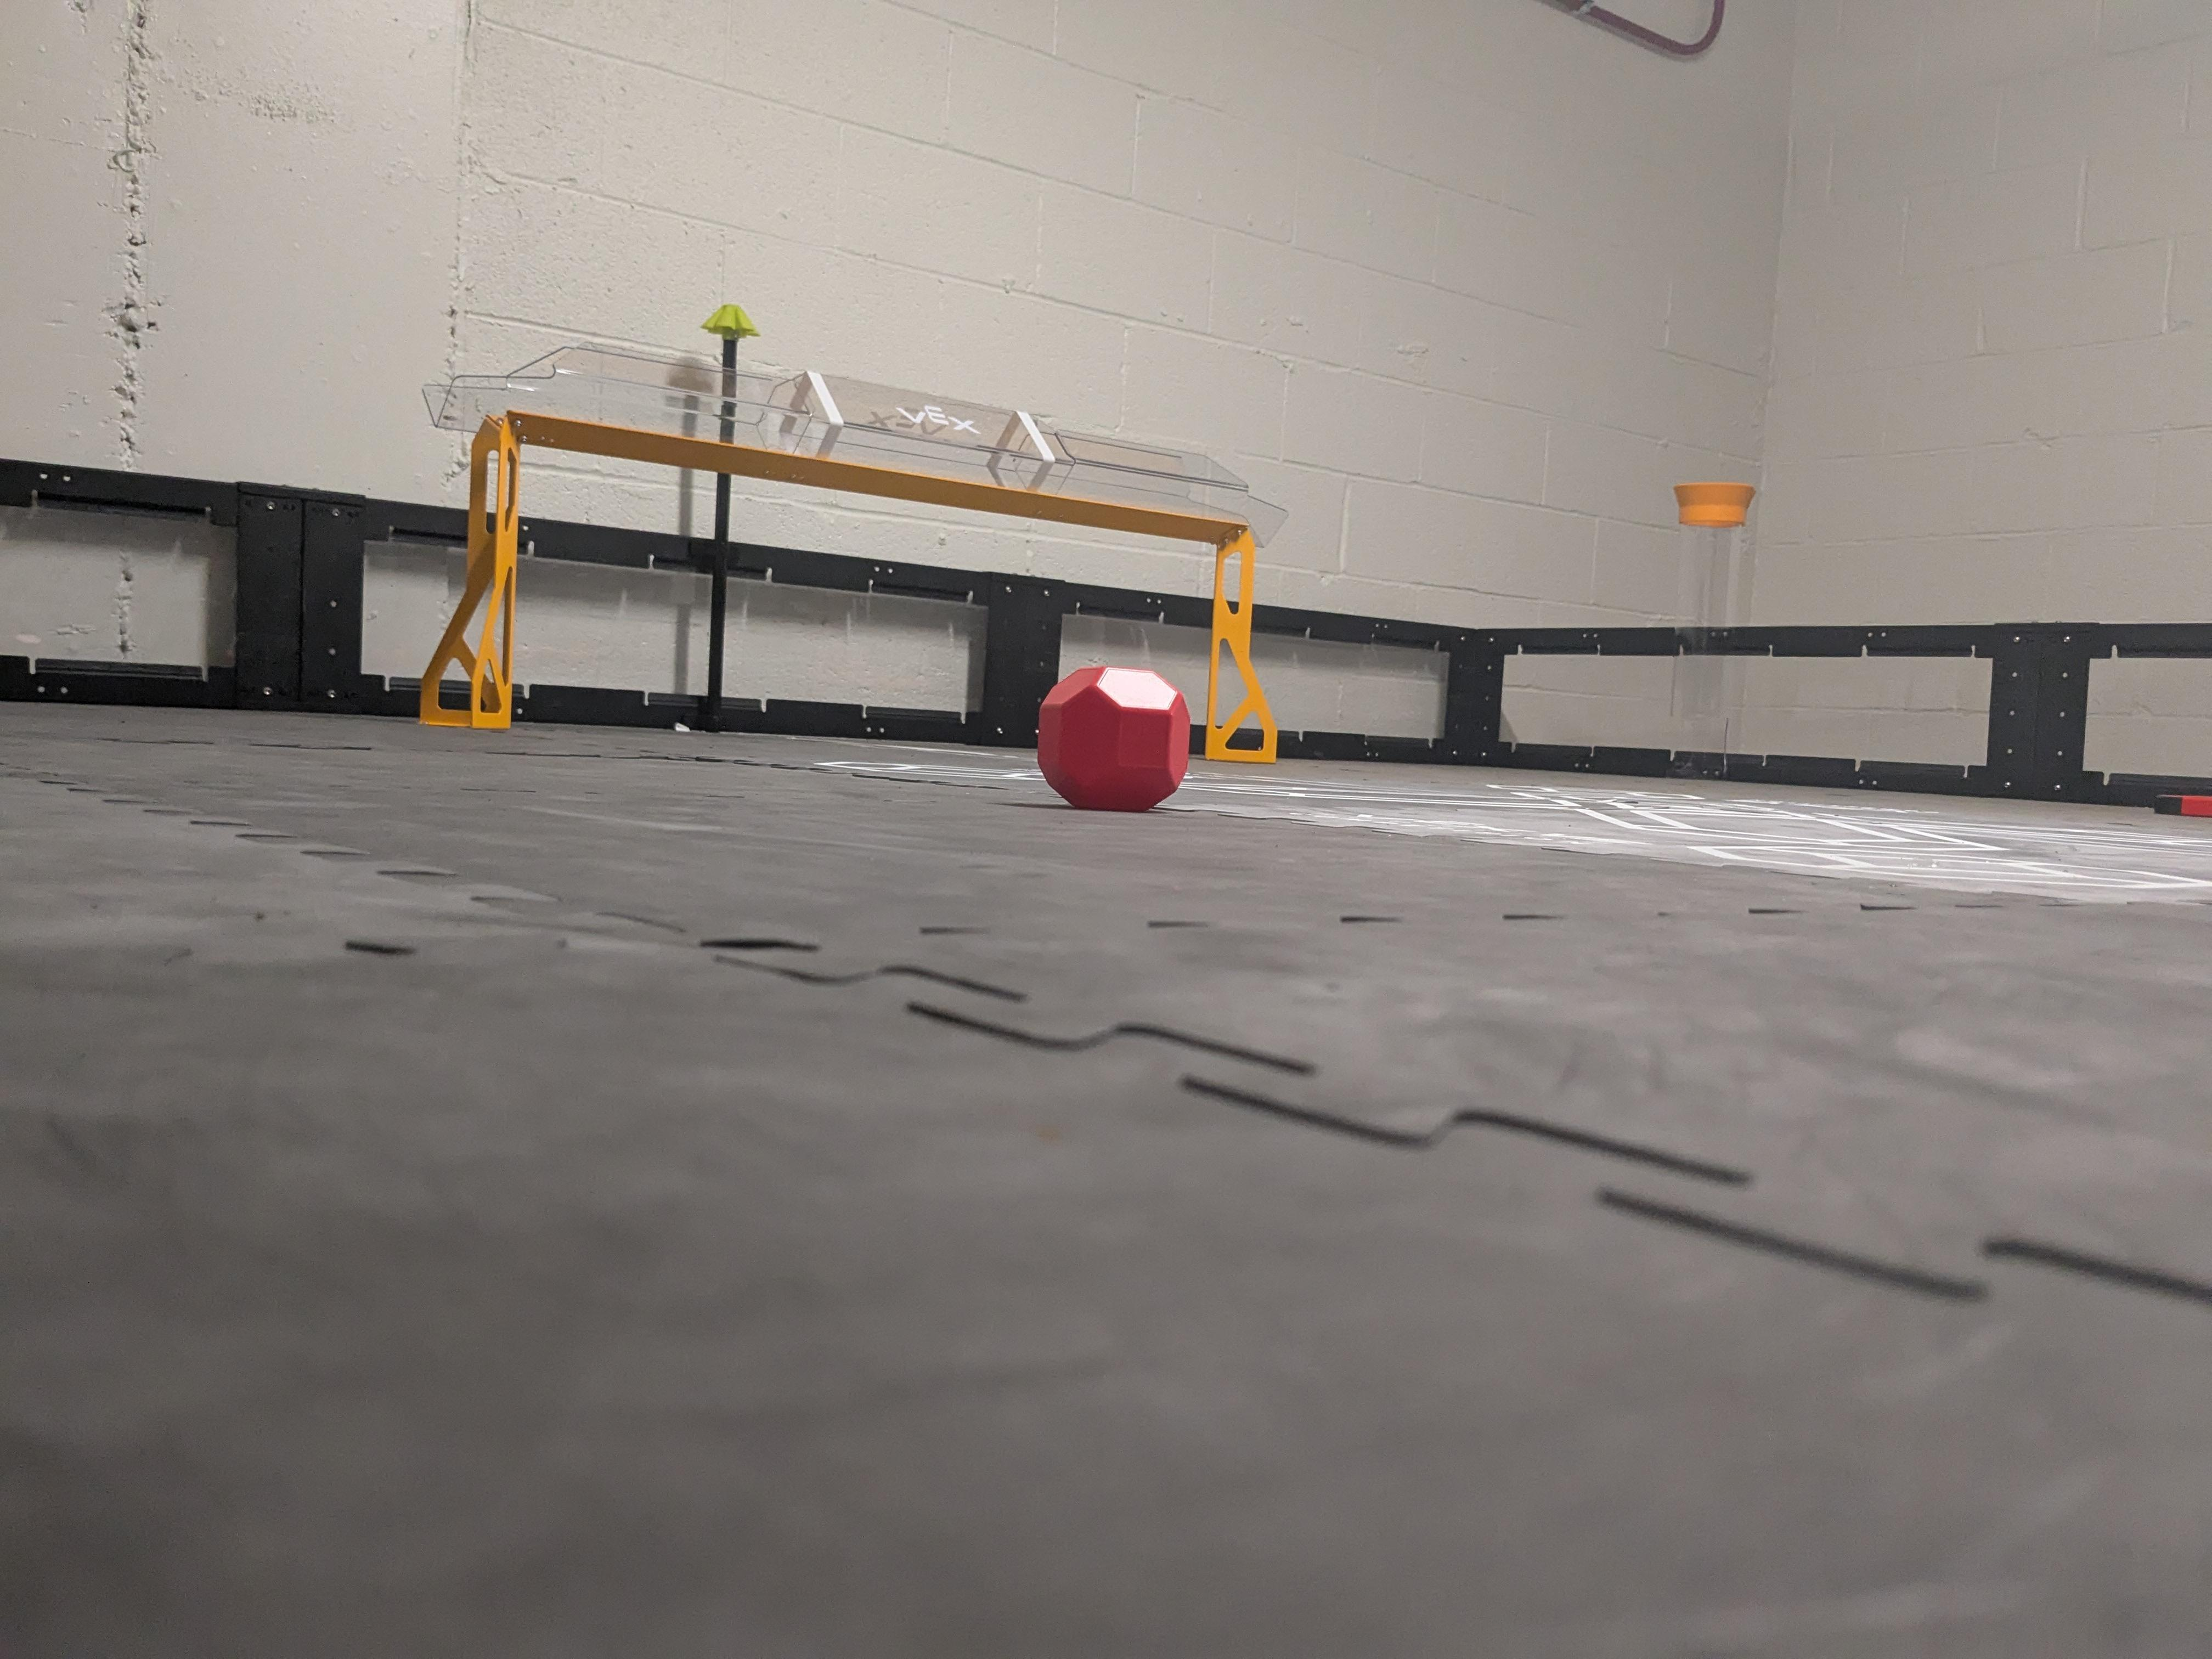Vex-Pieces-RED: (1038, 666, 1191, 810)
